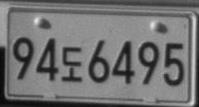4: (111, 39, 135, 84), (35, 37, 58, 81)
5: (162, 42, 184, 86)
6: (87, 39, 110, 82)
9: (11, 36, 35, 80), (137, 40, 159, 85)
도: (61, 46, 83, 81)
